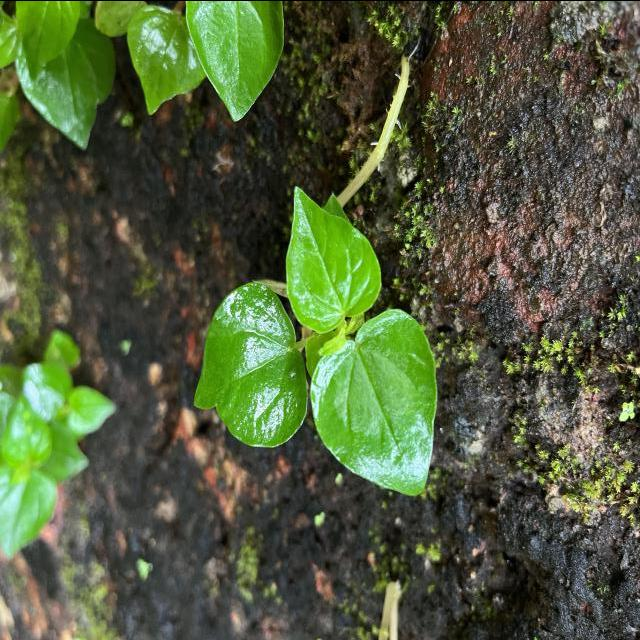Peperomia pellucida: (308, 304, 440, 498), (190, 280, 310, 449), (282, 183, 383, 336)
